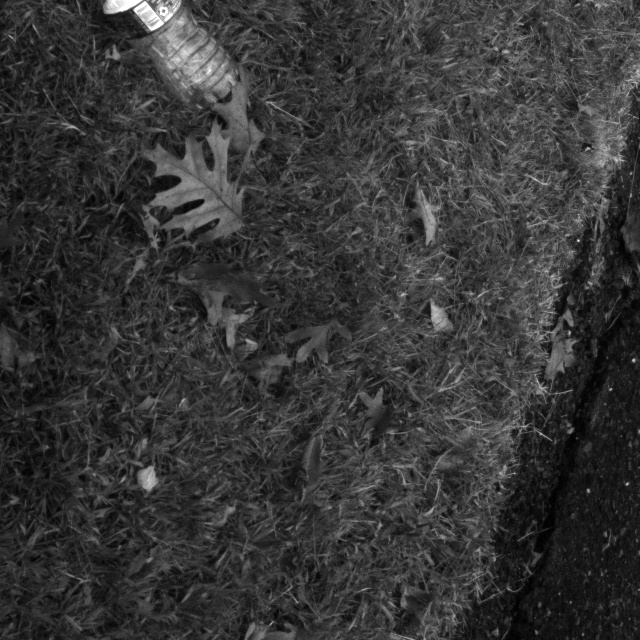bottle: (66, 0, 242, 125)
